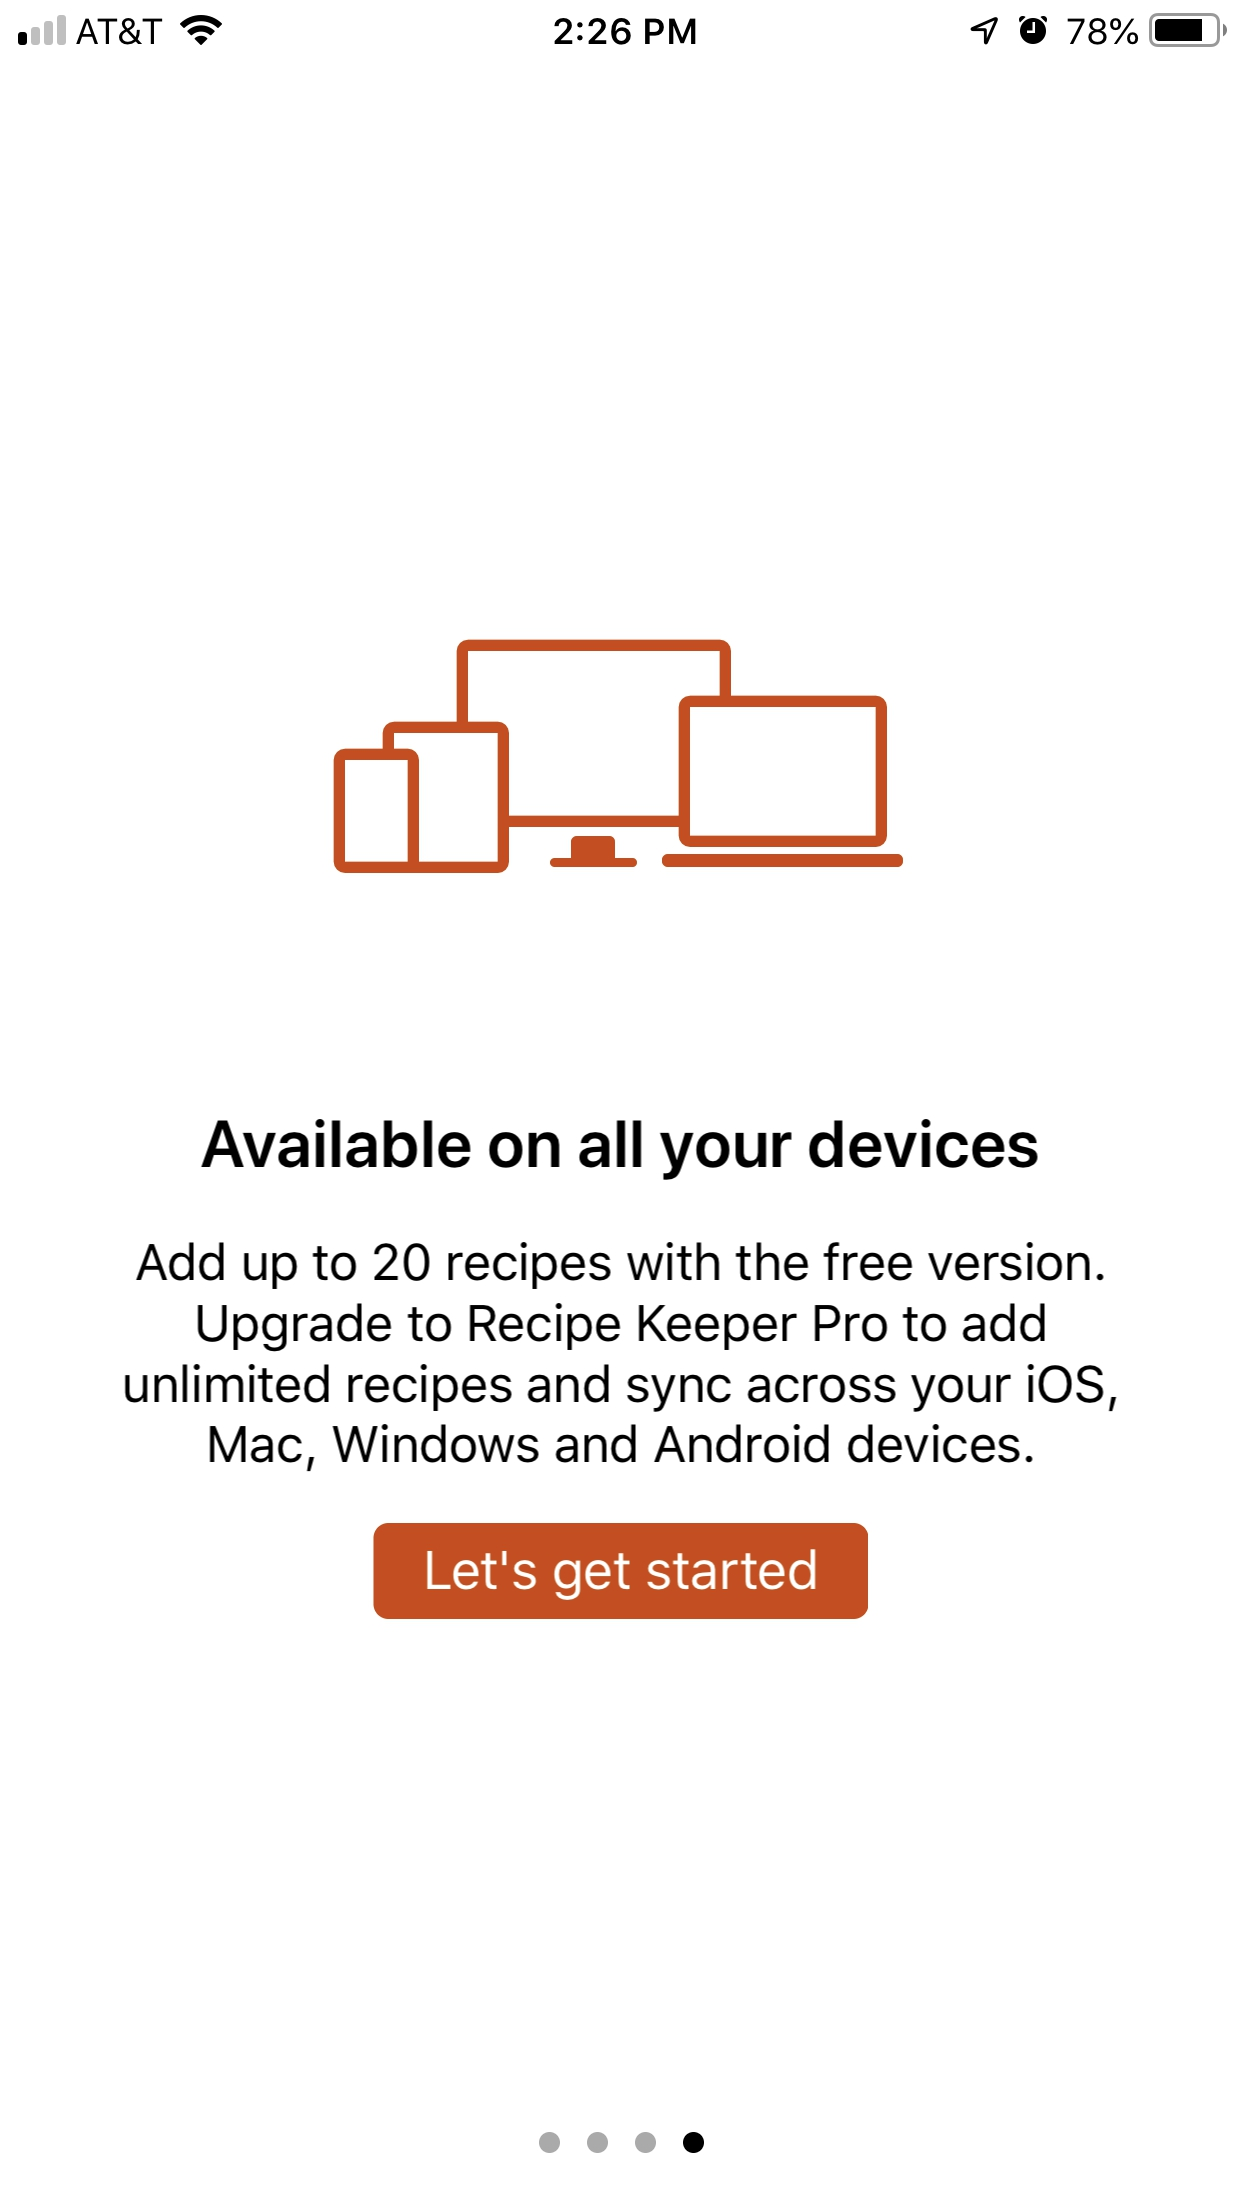Image: (334, 638, 904, 873)
PageIndicator: (538, 2131, 705, 2153)
Text: (124, 1240, 1118, 1473), (202, 1119, 1039, 1181)
TextButton: (373, 1523, 869, 1620)
UpperTaskBar: (2, 2, 1242, 49)
